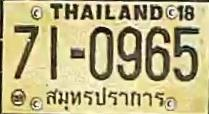0: (89, 26, 113, 80)
1: (49, 26, 57, 80)
5: (173, 26, 199, 81)
6: (145, 26, 170, 80)
7: (13, 24, 38, 78)
9: (116, 26, 141, 80)
SPK: (41, 85, 167, 108)
